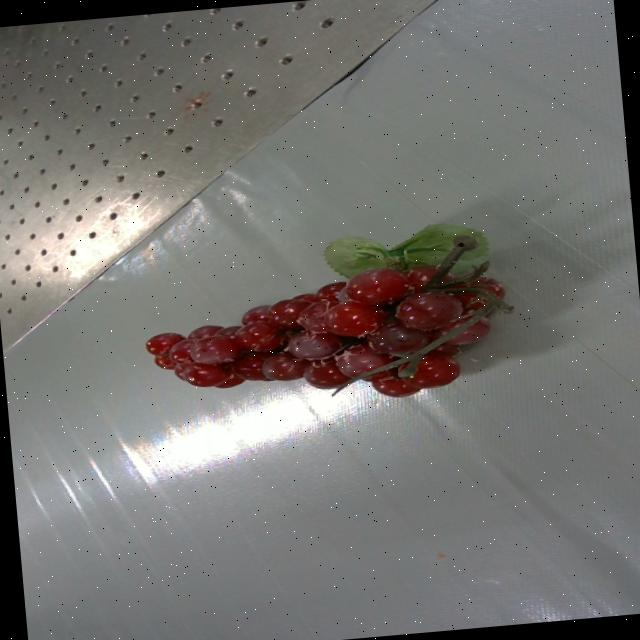grape: (144, 223, 512, 397)
